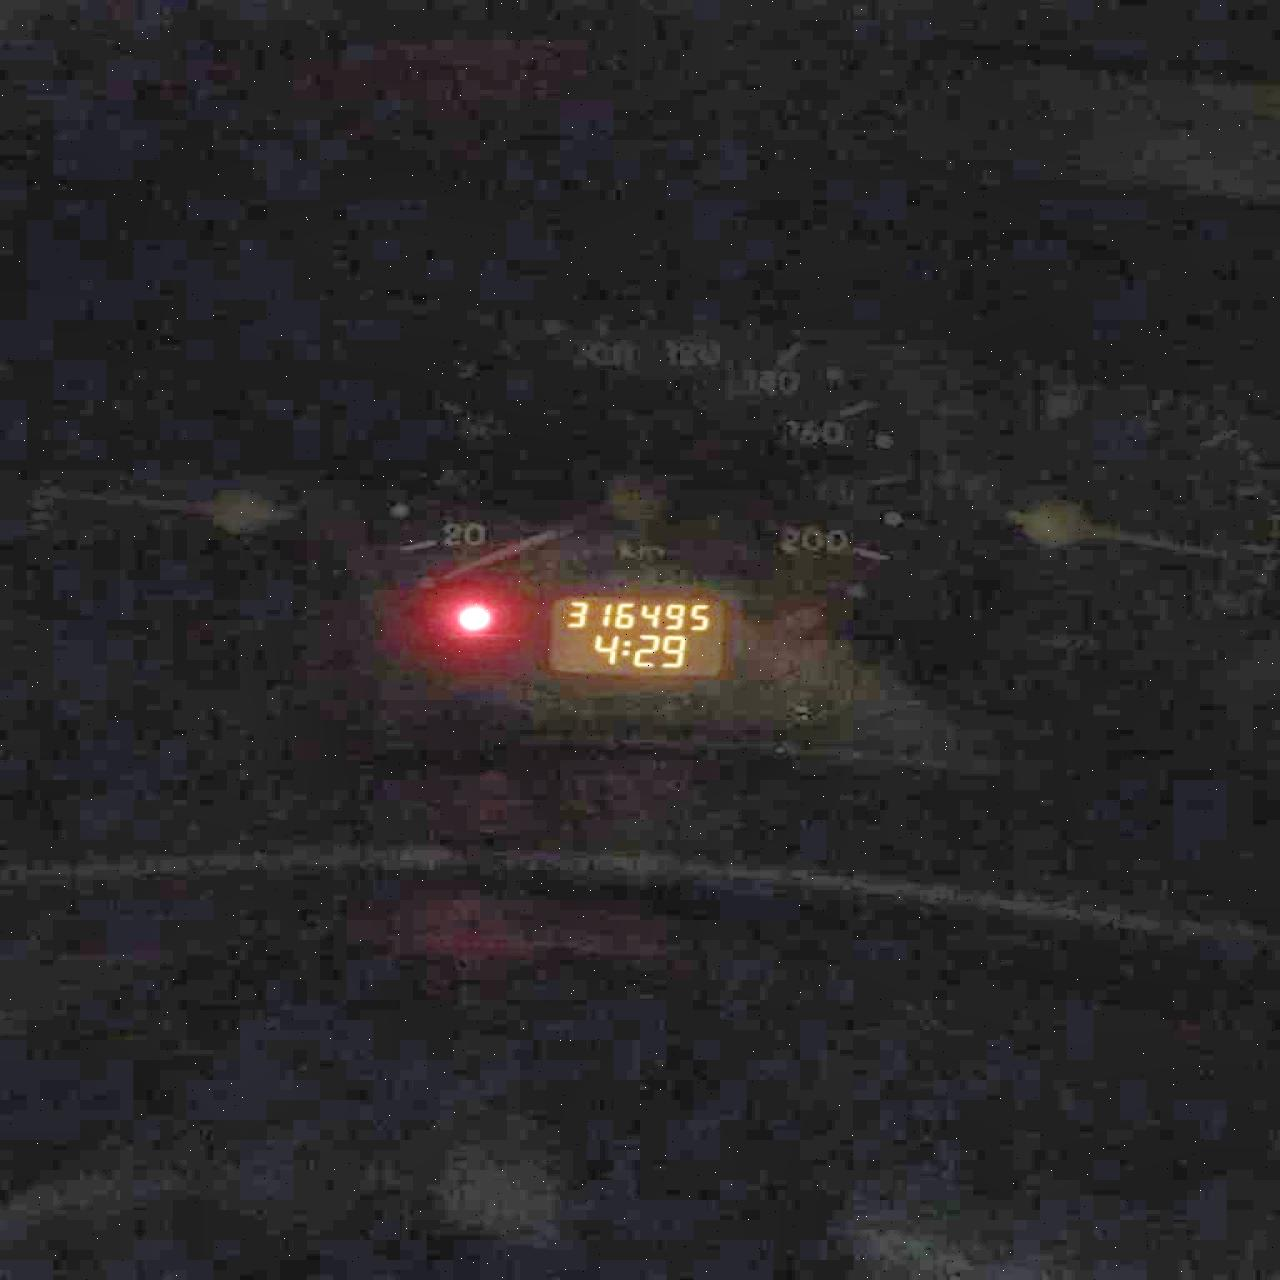1: (600, 602, 610, 626)
2: (629, 634, 659, 666)
3: (565, 600, 587, 628)
4: (592, 634, 618, 663), (639, 604, 660, 627)
5: (688, 602, 708, 629)
6: (612, 602, 633, 627)
9: (660, 635, 685, 667), (662, 602, 683, 628)
X: (618, 639, 632, 656)
odometer: (543, 592, 727, 676)
